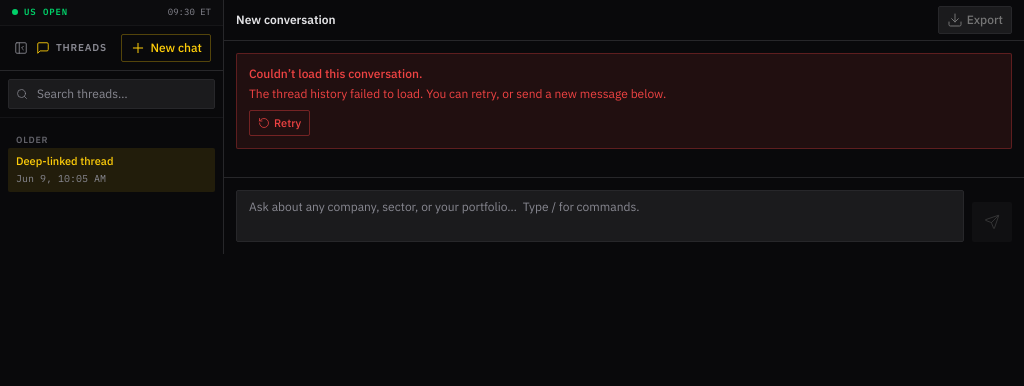
Test: ChatPage thread-load failure (Round 4 error recovery) › renders an error state with Retry instead of a blank conversation, and keeps the composer usable
Expected: the message with test id "thread-load-error" shows "couldn.t load this conversation", [249,66,422,81]
Expected: the text box named "Chat message input" is enabled, [236,190,964,242]
Click the button "Retry" at (280, 123), box [249,110,310,136]
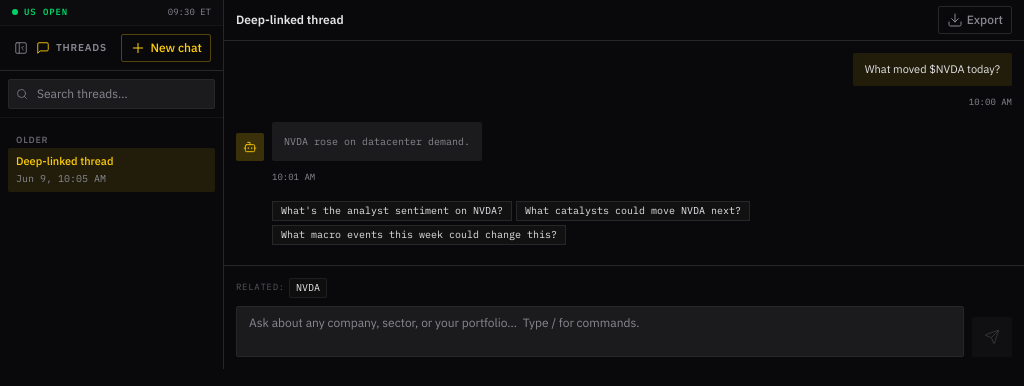
Expected: the text "NVDA rose on datacenter demand." is shown, [284,134,470,148]
Expected: the message with test id "thread-load-error" is gone
